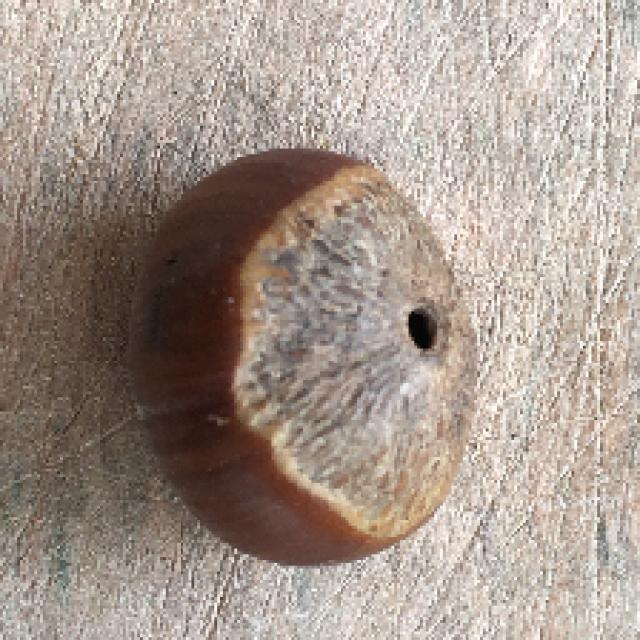damagedHazelnut: (128, 143, 484, 566)
